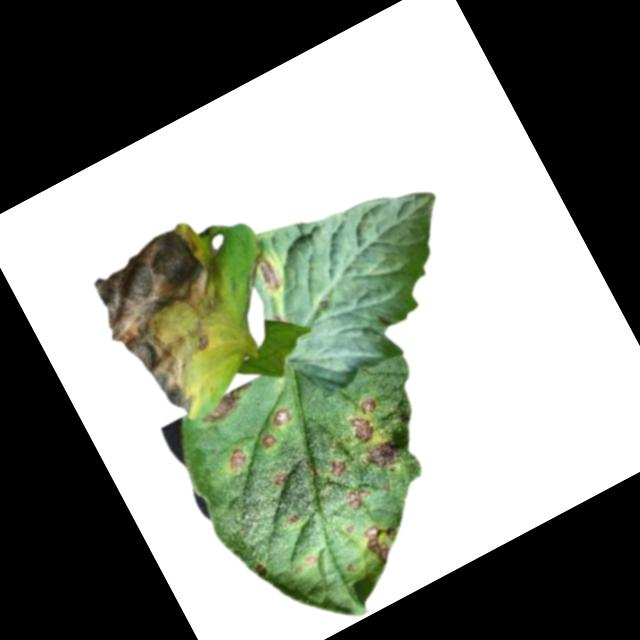Early_blight: (79, 212, 280, 429), (195, 382, 262, 433), (358, 514, 412, 571), (360, 436, 405, 474), (253, 255, 288, 300), (346, 411, 378, 448), (341, 481, 375, 515), (268, 404, 297, 432), (224, 446, 251, 475), (326, 454, 350, 478), (271, 469, 293, 490), (302, 551, 322, 571), (360, 396, 380, 415), (261, 433, 279, 451), (283, 513, 300, 529)
